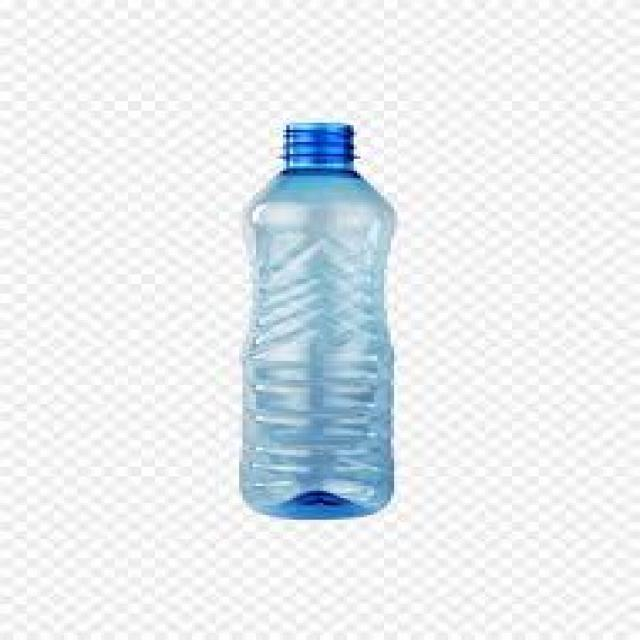Plastic: (240, 122, 398, 522)
